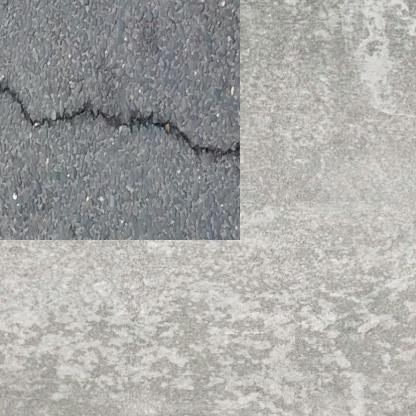Cracks: (0, 70, 221, 146)
